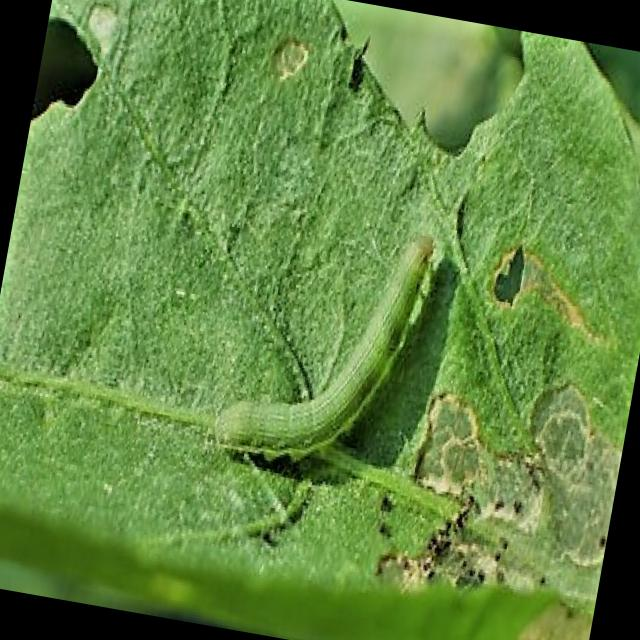Armyworm: (191, 162, 441, 511)
Armyworm_damage: (298, 1, 581, 196), (27, 1, 108, 156), (467, 216, 546, 327)
